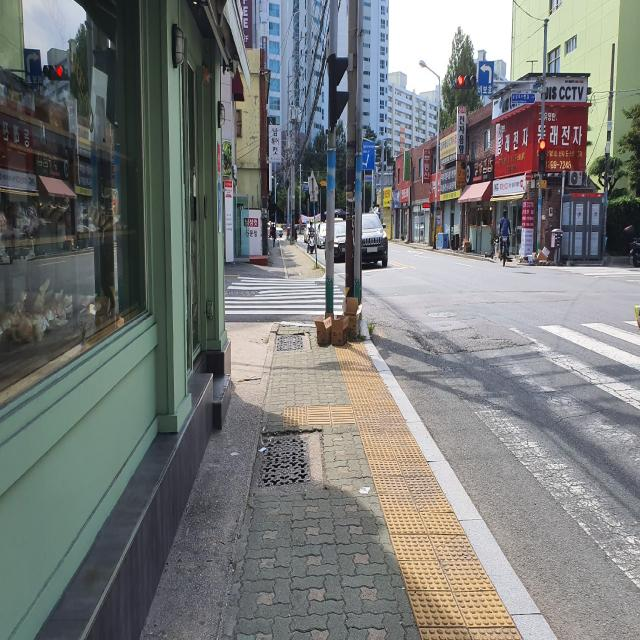횡단보도: (445, 328, 640, 418), (225, 276, 345, 316)
